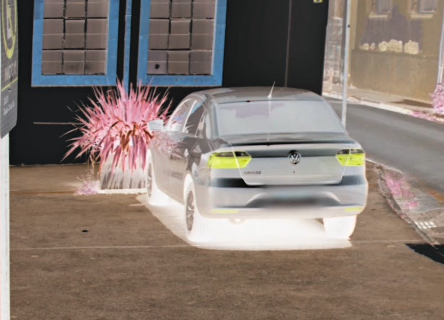car: (137, 79, 371, 248)
